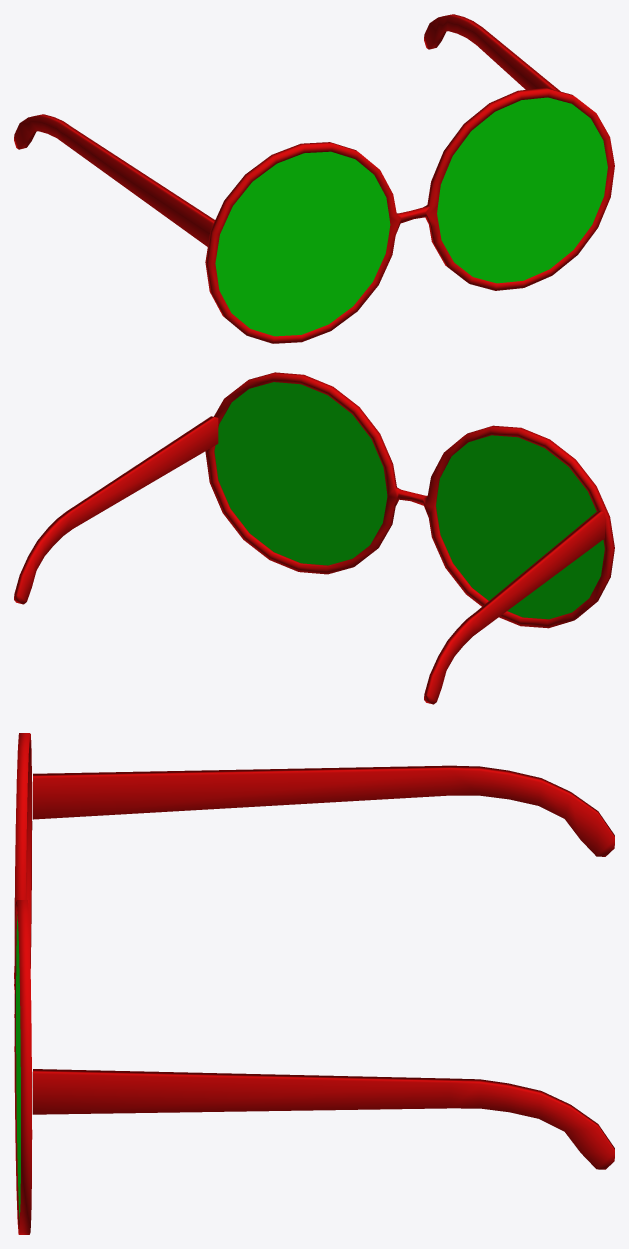
Rendered from UpperFace_RoundGlassesLens.fbx.
The picture shows the model from 3 angles, top to bottom: view 1: azimuth 30°, elevation 25°; view 2: azimuth 150°, elevation 25°; view 3: azimuth 270°, elevation 25°; orthographic projection. The views are drawn at different scales.
Visible parts, largest first — view 1: pPipe9; view 2: pPipe9; view 3: pPipe9.
Boxes of the visible parts, bbox=[...] form: pPipe9: bbox=[14, 14, 614, 343]; pPipe9: bbox=[14, 372, 614, 704]; pPipe9: bbox=[14, 733, 614, 1234].
Bounding box in the file's own units: 18.63 × 8.32 × 14.84.
